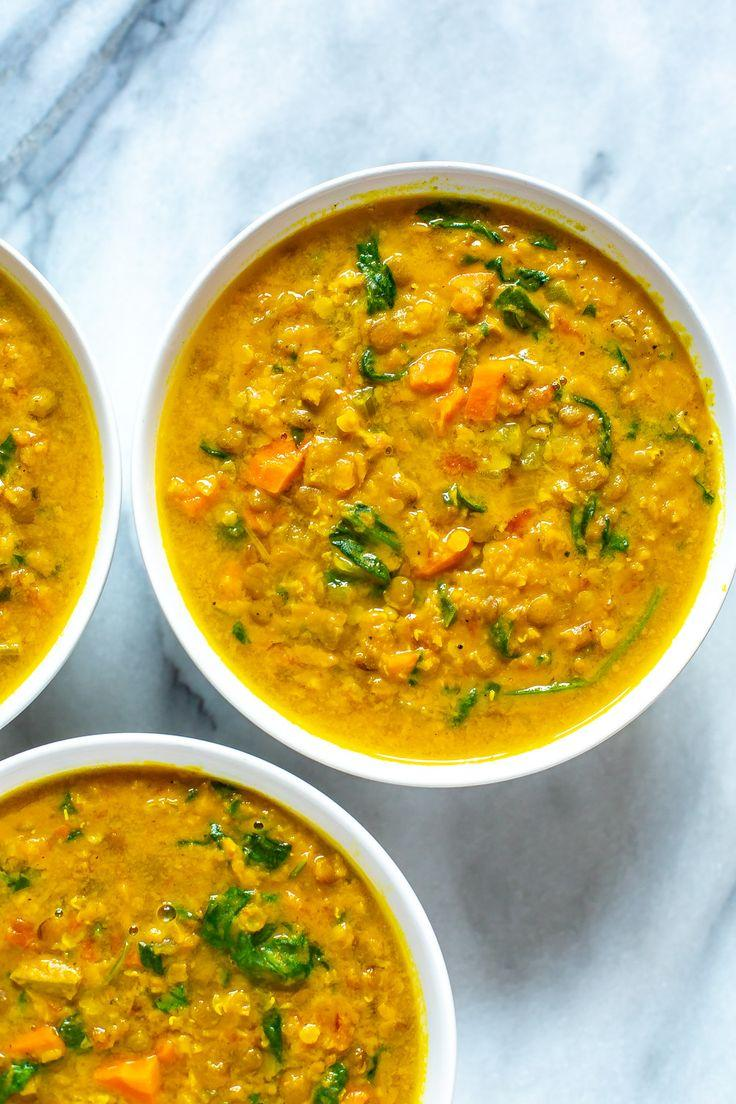daal: (177, 219, 717, 784), (0, 782, 464, 1093), (0, 267, 115, 697)
